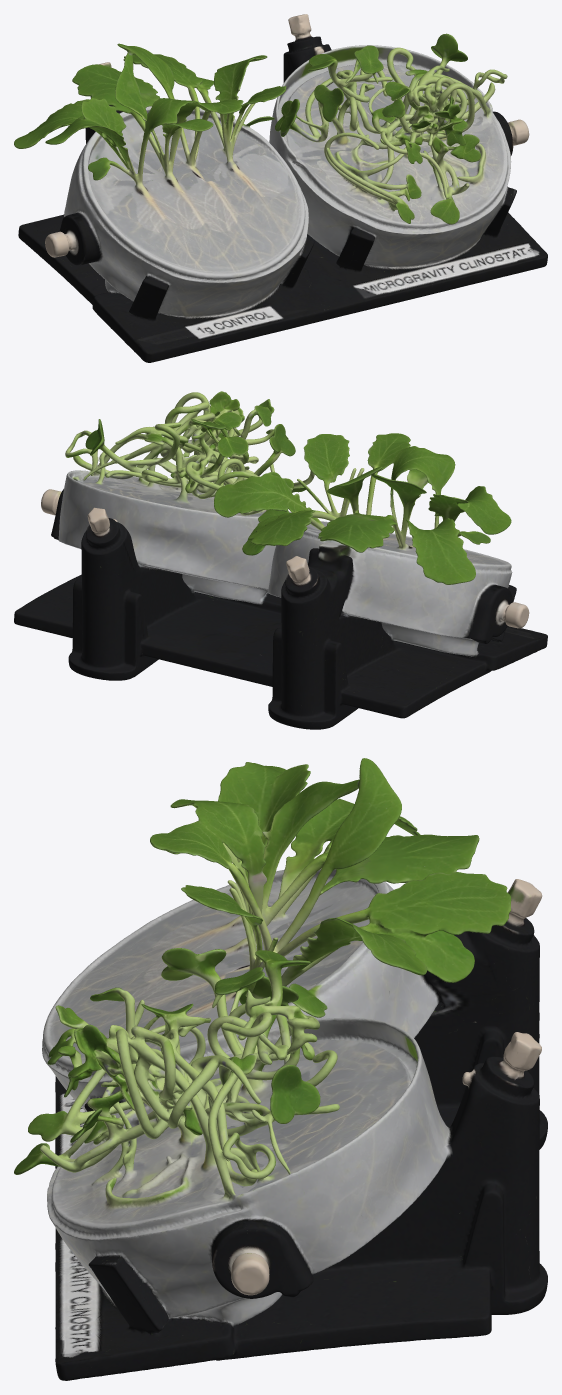
File: seed_21day.glb
3 views of the same model, one above another, from view 1: azimuth 30°, elevation 25°; view 2: azimuth 150°, elevation 25°; view 3: azimuth 270°, elevation 25° (orthographic). The views are drawn at different scales.
Bounding box in the file's own units: 1.9 × 0.887 × 1.17.
Materials: 1 (1 with a texture image).
